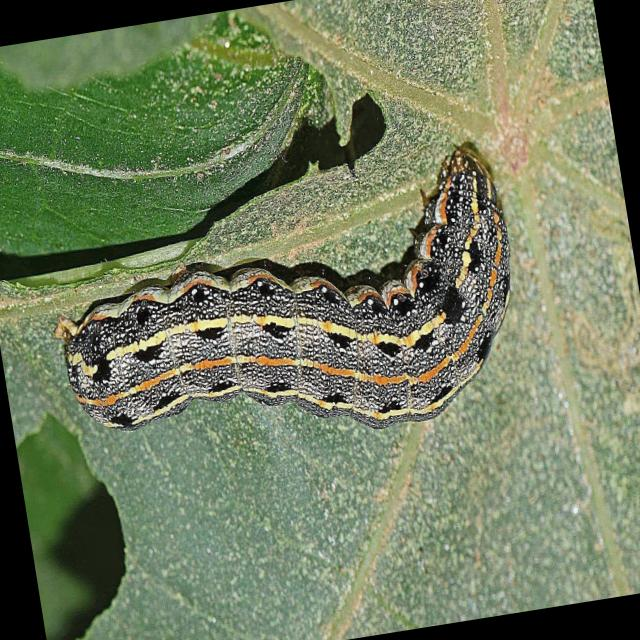Armyworm: (2, 111, 557, 500)
